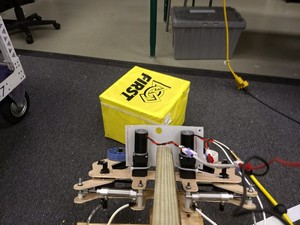cube: (97, 65, 191, 147)
